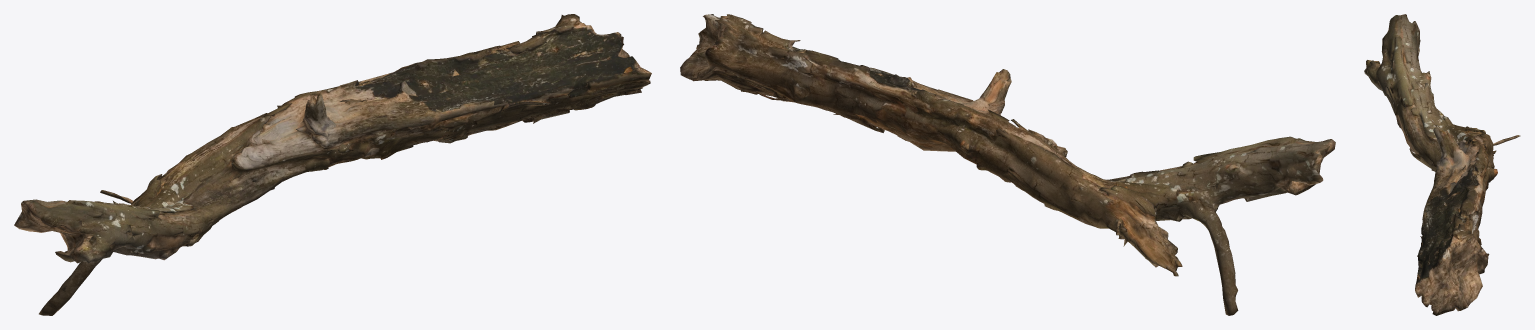
The model's file is dead_tree_trunk_02.glb.
The picture shows the model from 3 angles, left to right: view 1: azimuth 30°, elevation 25°; view 2: azimuth 150°, elevation 25°; view 3: azimuth 270°, elevation 25°; orthographic projection. The views are drawn at different scales.
Parts seen in each view (by area): view 1: dead_tree_trunk_02_lod0; view 2: dead_tree_trunk_02_lod0; view 3: dead_tree_trunk_02_lod0.
Part boxes in pixels (left/top/right/bottom): dead_tree_trunk_02_lod0: left=14, top=14, right=651, bottom=315; dead_tree_trunk_02_lod0: left=680, top=14, right=1335, bottom=315; dead_tree_trunk_02_lod0: left=1364, top=14, right=1520, bottom=315.
Size of what is drawn, in the model's own units: 4.06 by 1.05 by 1.06.
Materials: 1 (1 with a texture image).
